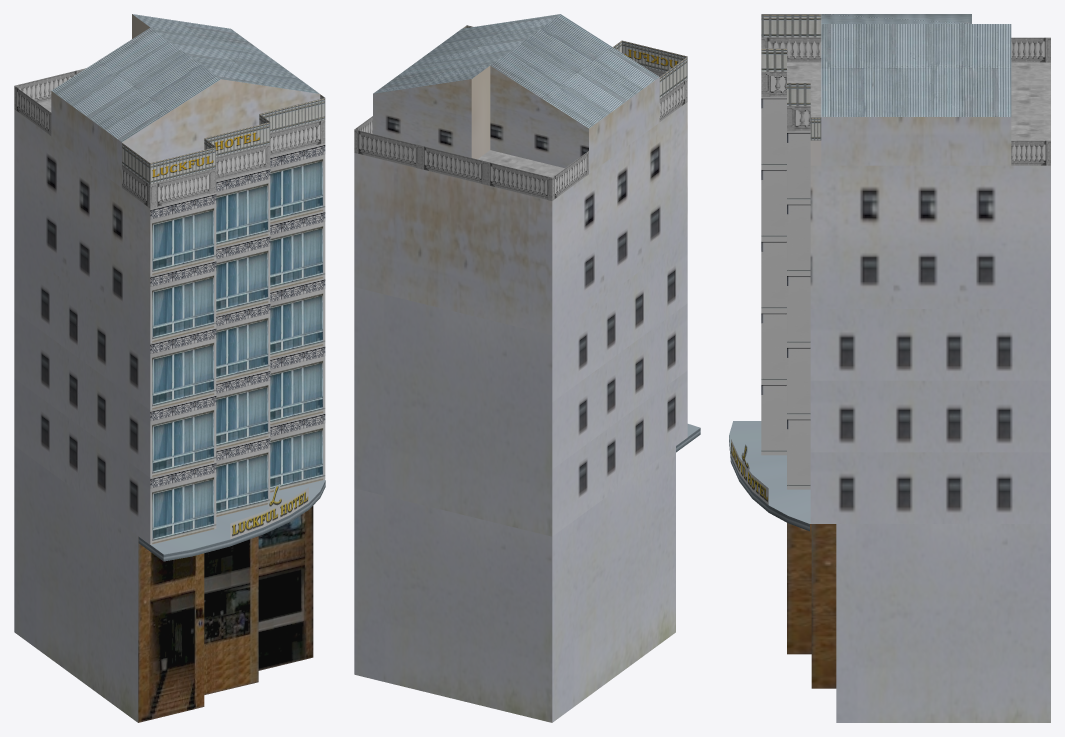
The picture shows the model from 3 angles, left to right: view 1: azimuth 30°, elevation 25°; view 2: azimuth 150°, elevation 25°; view 3: azimuth 270°, elevation 25°; orthographic projection. The views are drawn at different scales.
Visible parts, largest first — view 1: HN379_Capital_Garden_Hotel.001; view 2: HN379_Capital_Garden_Hotel.001; view 3: HN379_Capital_Garden_Hotel.001.
Part boxes in pixels (x1,y1,x2,y2): HN379_Capital_Garden_Hotel.001: [14, 14, 325, 722]; HN379_Capital_Garden_Hotel.001: [354, 14, 700, 722]; HN379_Capital_Garden_Hotel.001: [729, 14, 1050, 722].
Bounding box in the file's own units: 10.8 × 31.62 × 14.24.
Materials: 1 (1 with a texture image).
